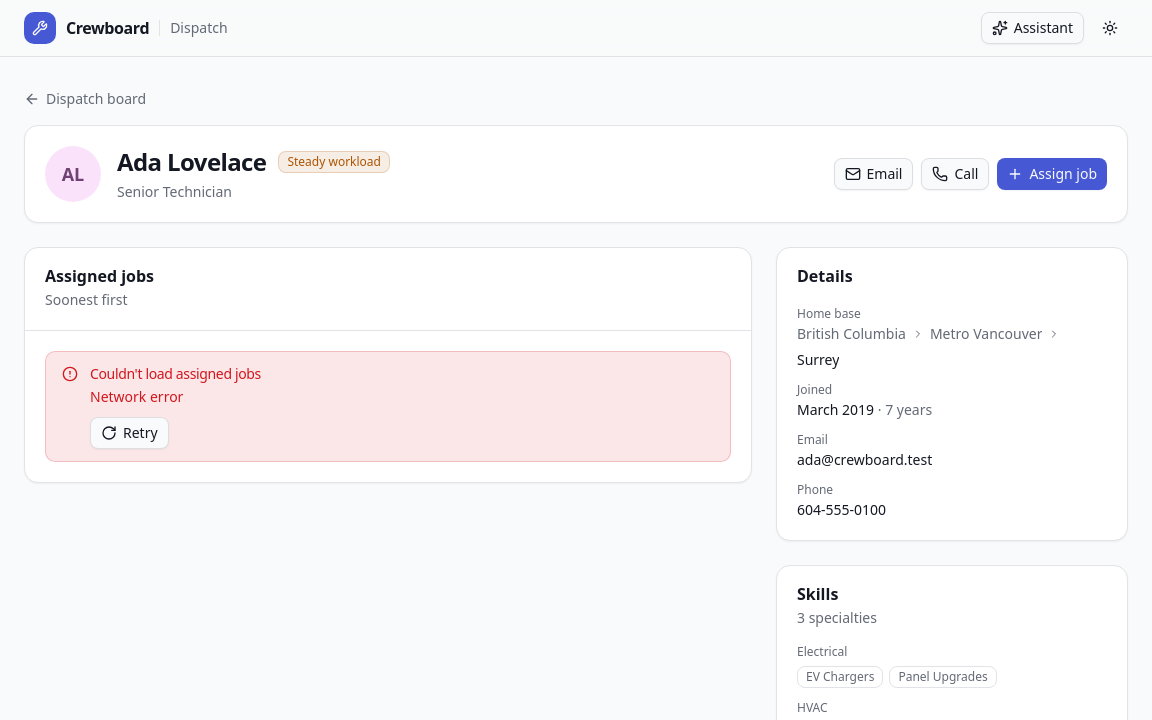
Test: TechnicianProfilePage › offers a retry when the assigned jobs fail to load
Check: the message shows "Couldn't load assigned jobs", box 90,364 -> 261,383
Check: the heading "Ada Lovelace" is shown, box 117,146 -> 266,178
Click the button "Retry". click: (129, 433)
box: 90,417 -> 169,449
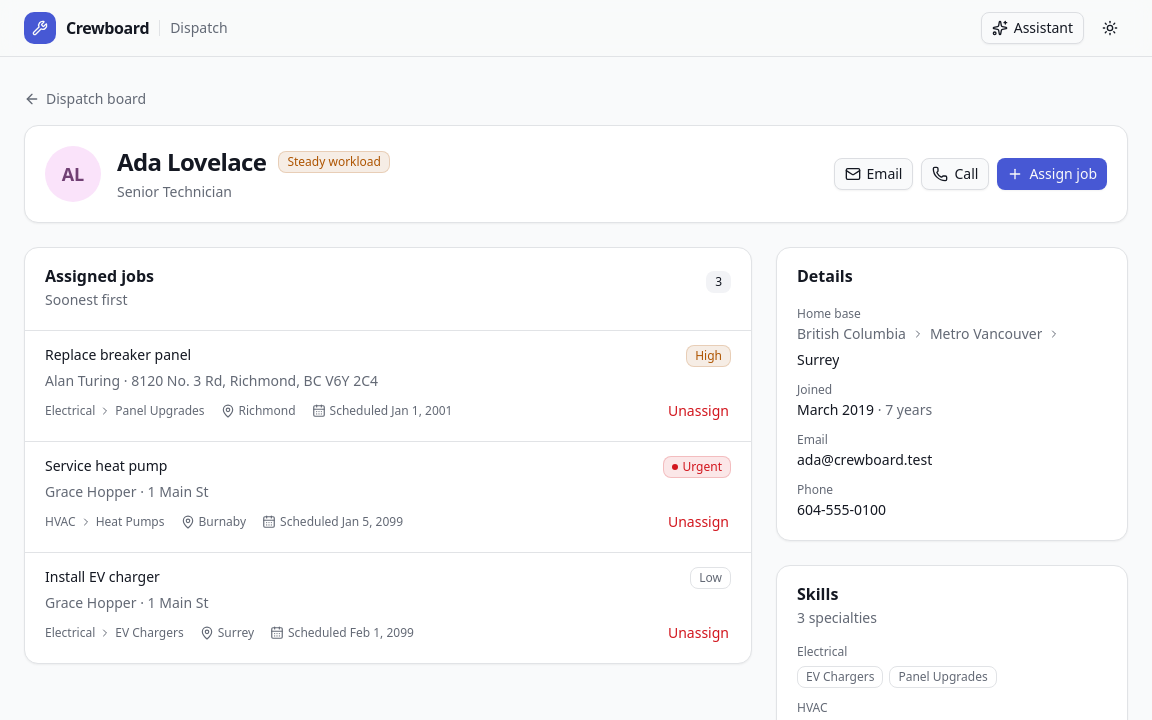
Check: the list named "Assigned jobs" is shown, box 25,331 -> 751,663
Check: the message "Couldn't load assigned jobs Network error Retry" is gone
